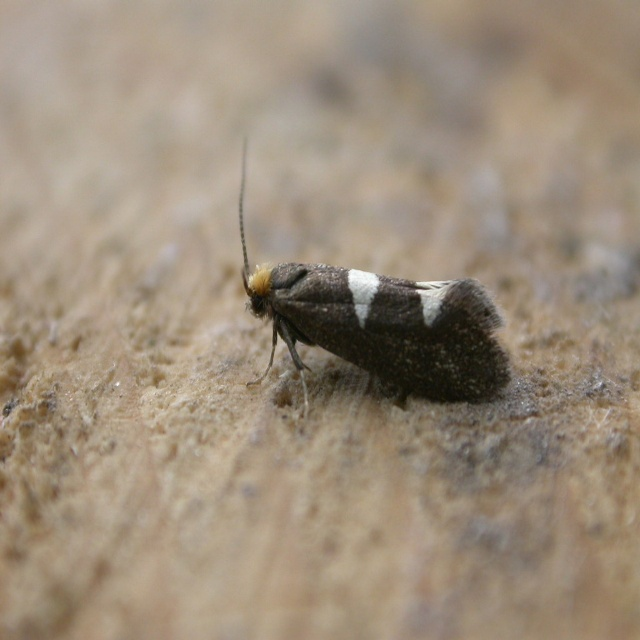Moths and butterflies: (235, 128, 517, 425)
